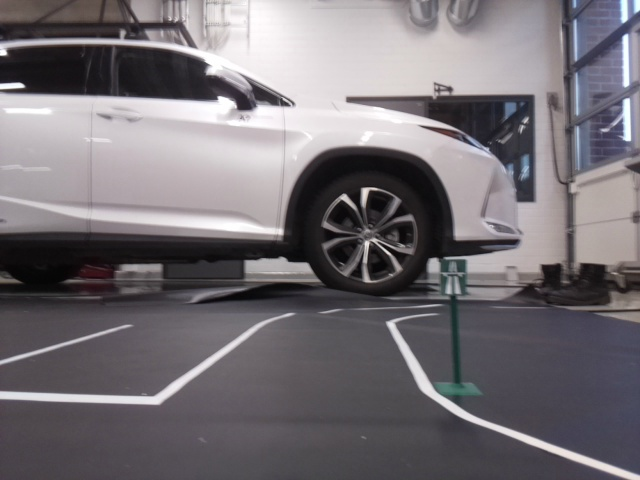HighwayEntrance: (439, 259, 465, 294)
